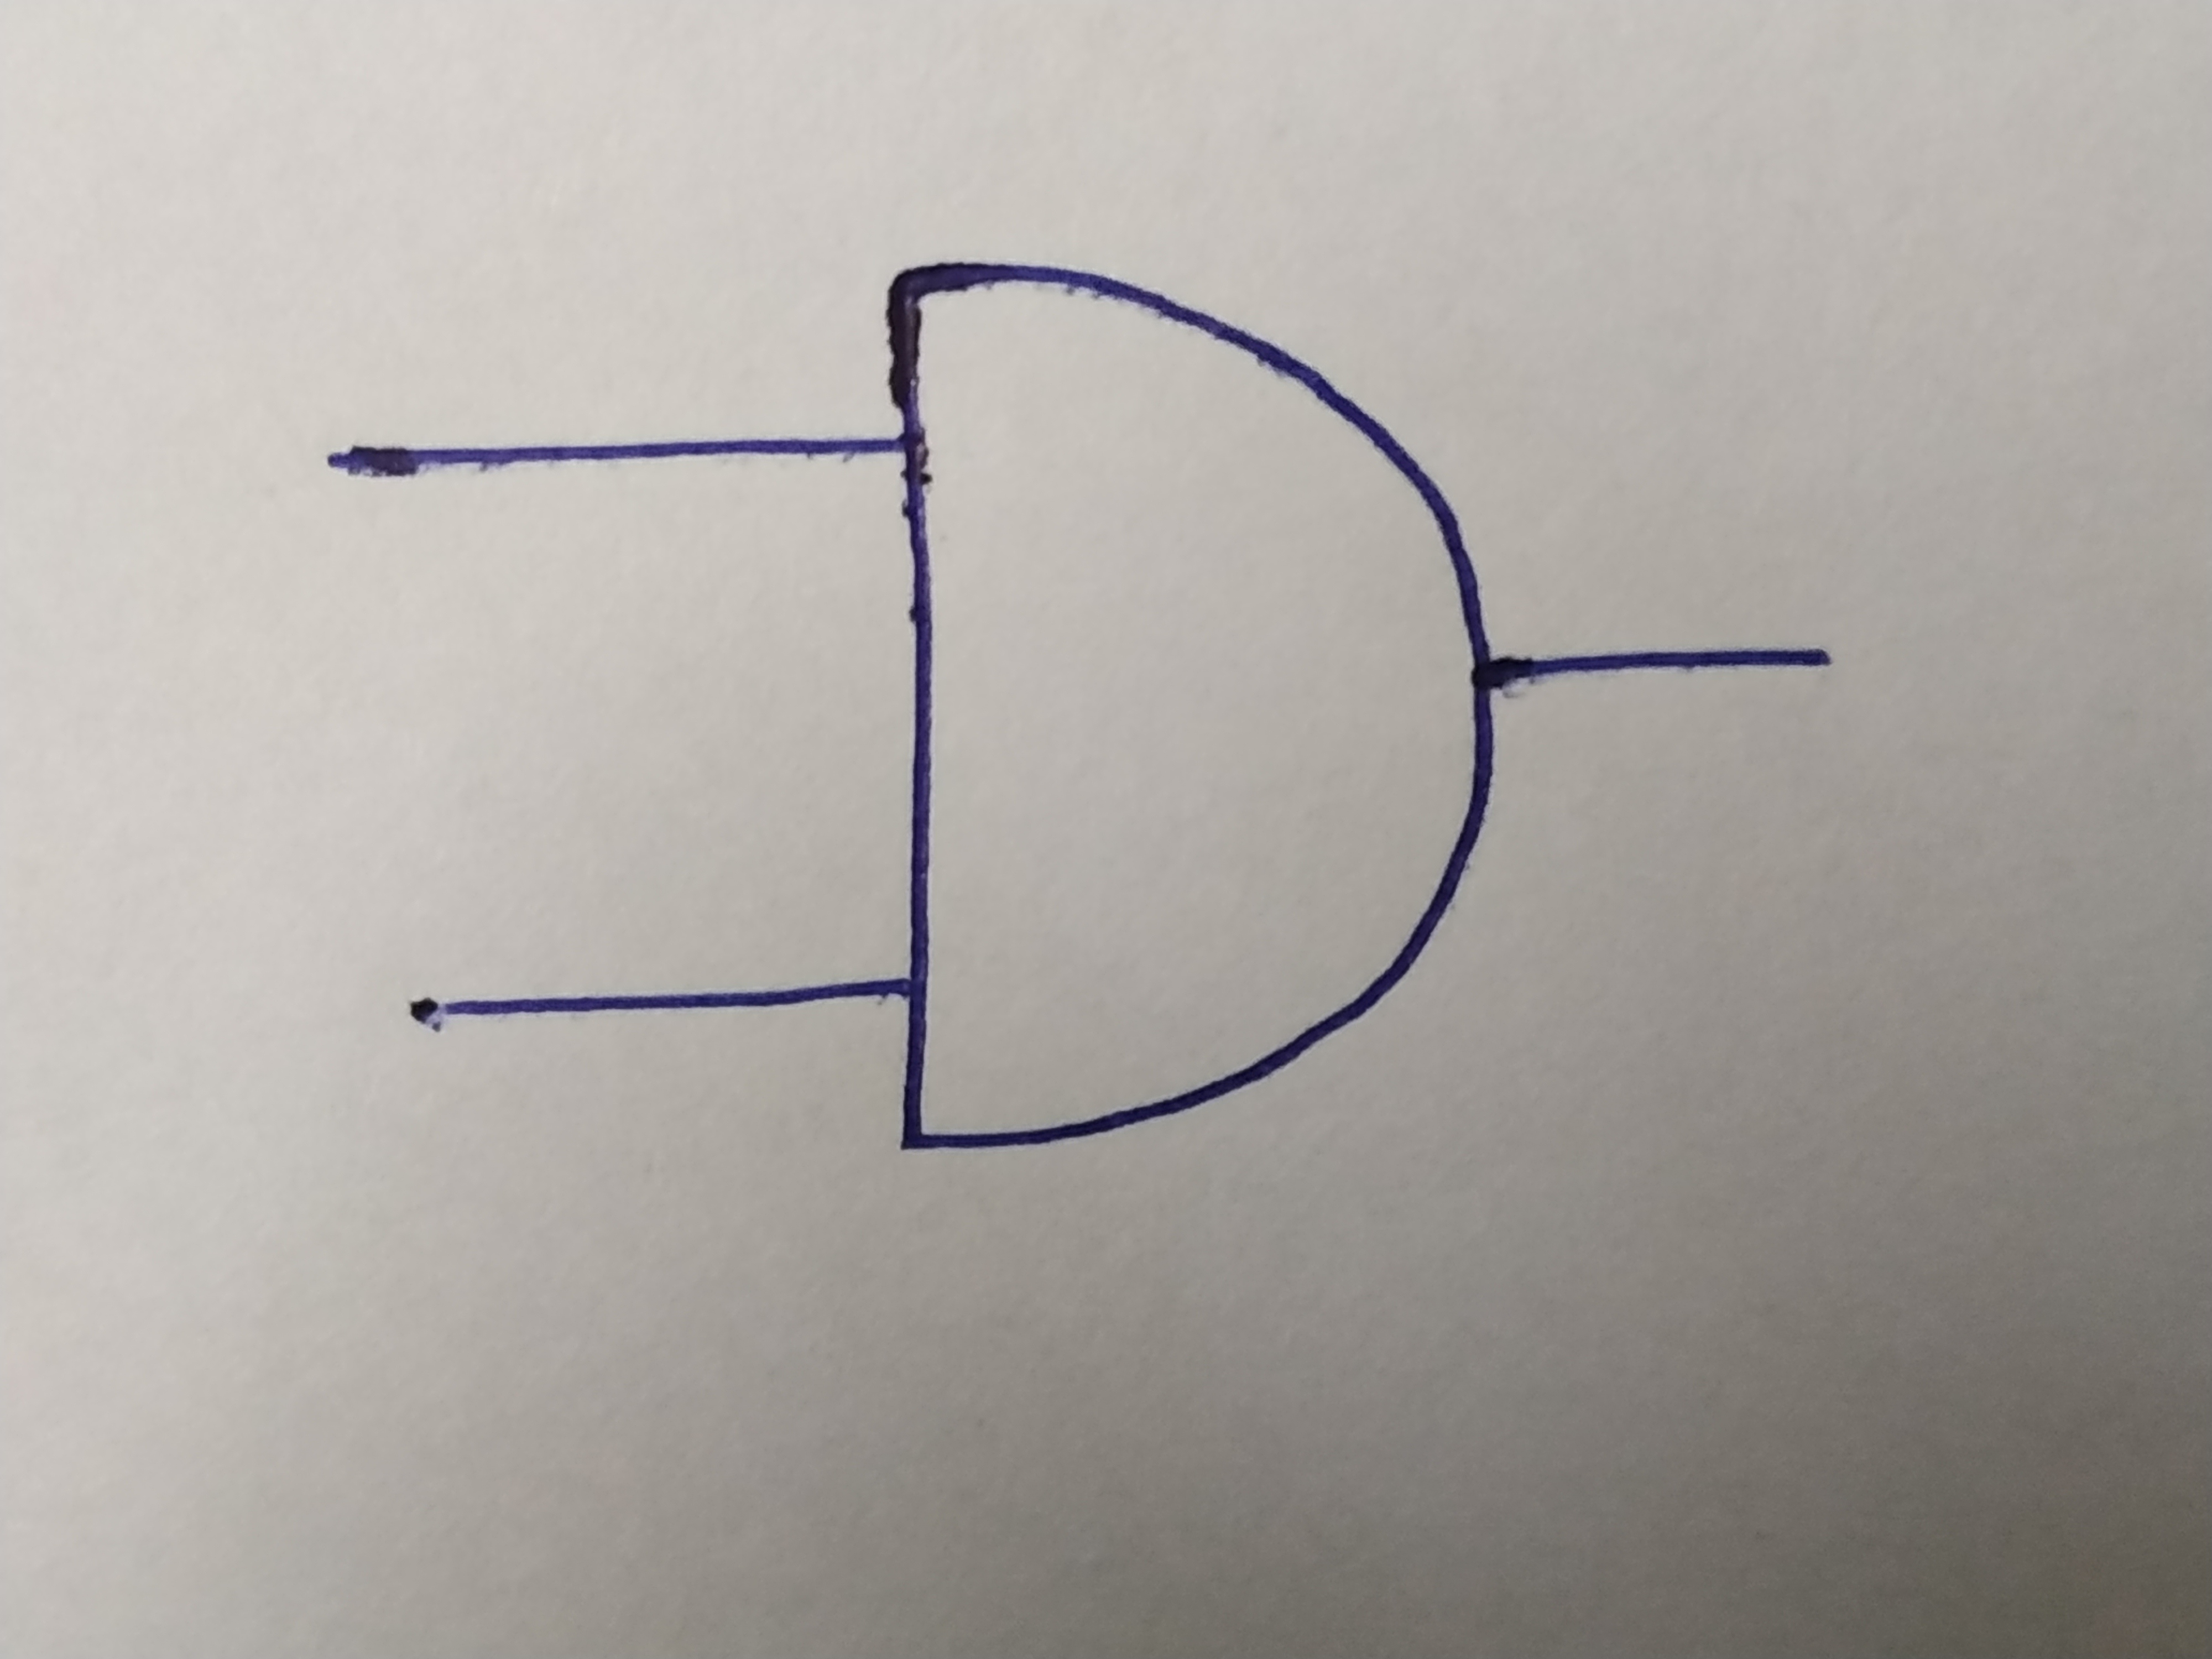and: (883, 263, 1486, 1138)
